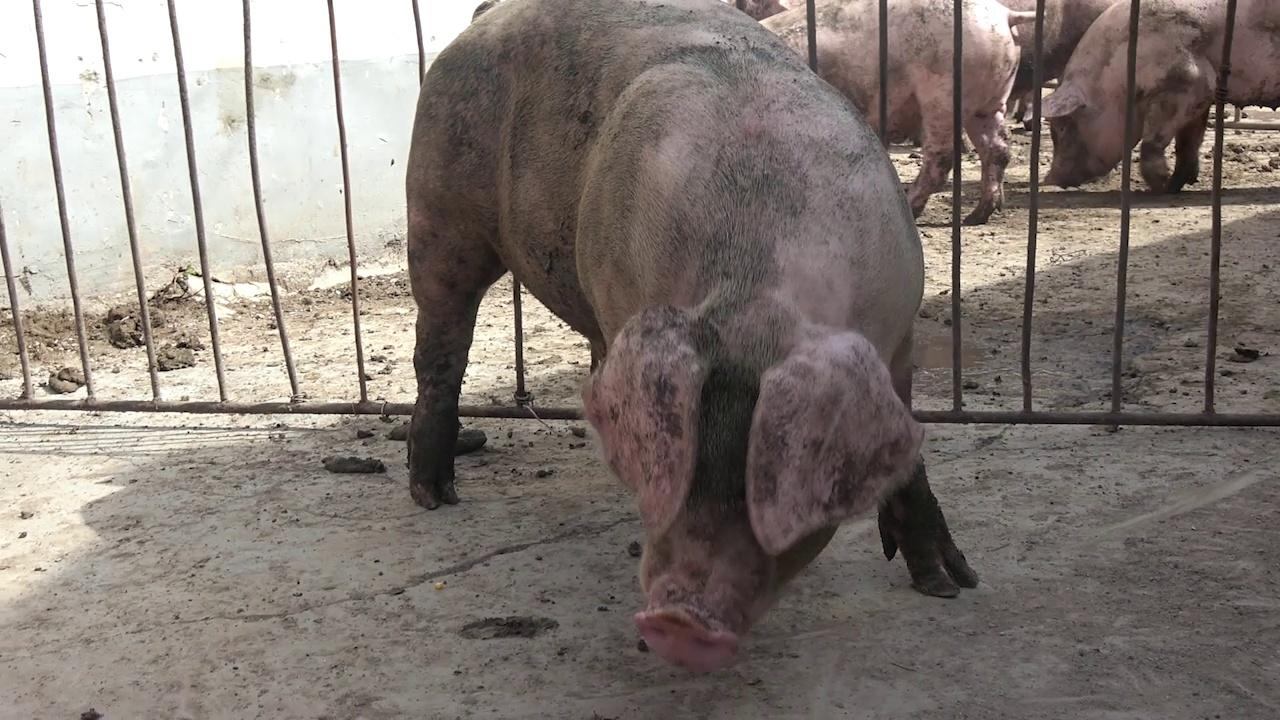Face: (577, 290, 931, 678)
